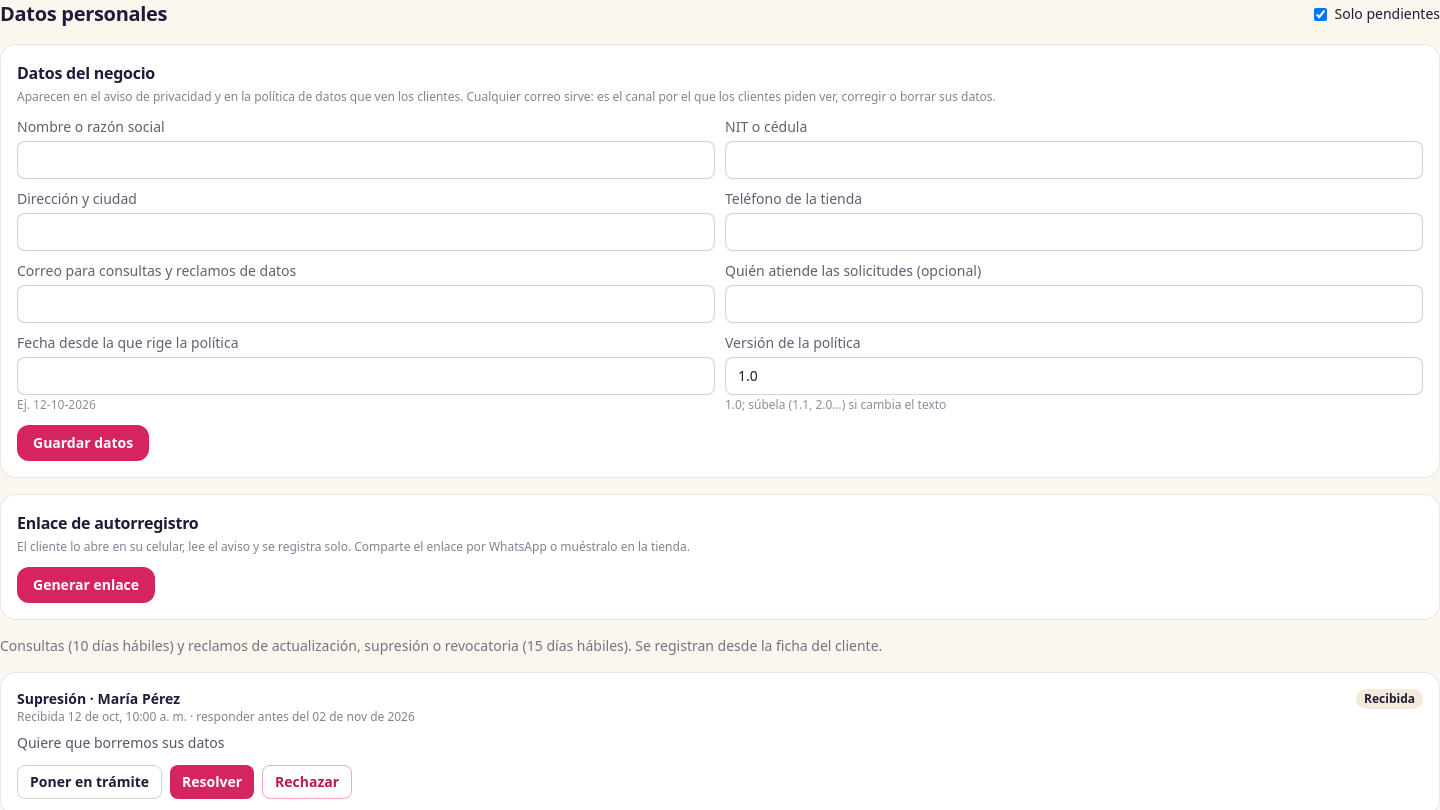
Test: SolicitudesTitular (HU-07, RF-035) › muestra el error del servidor
Click the button "Poner en trámite".
click(90, 782)  # box x1=17 y1=765 x2=162 y2=799
(page scrolled)
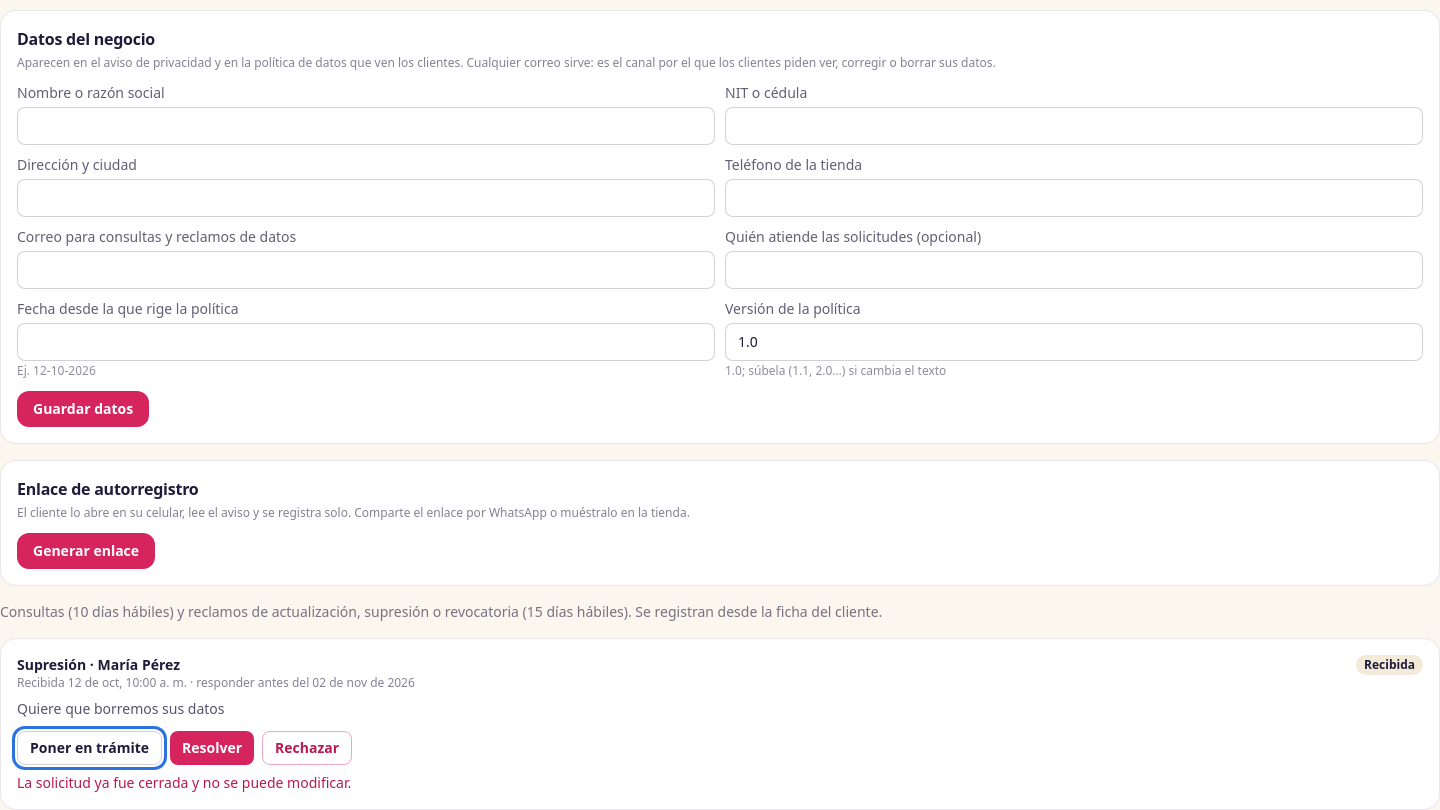
Check: the message shows "ya fue cerrada", box x1=17 y1=773 x2=351 y2=792
